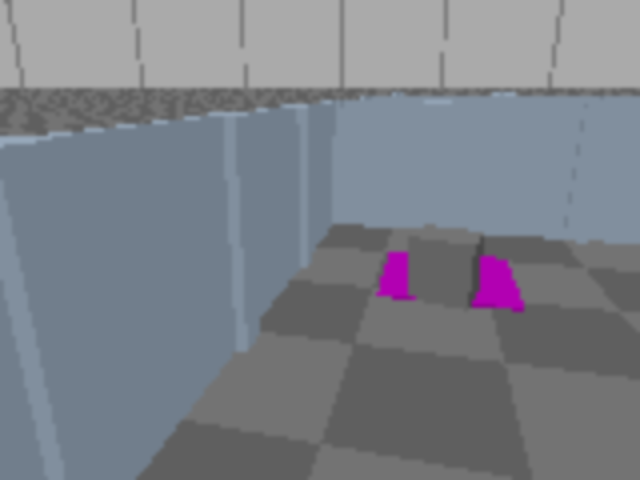obstacle: (406, 224, 485, 311)
